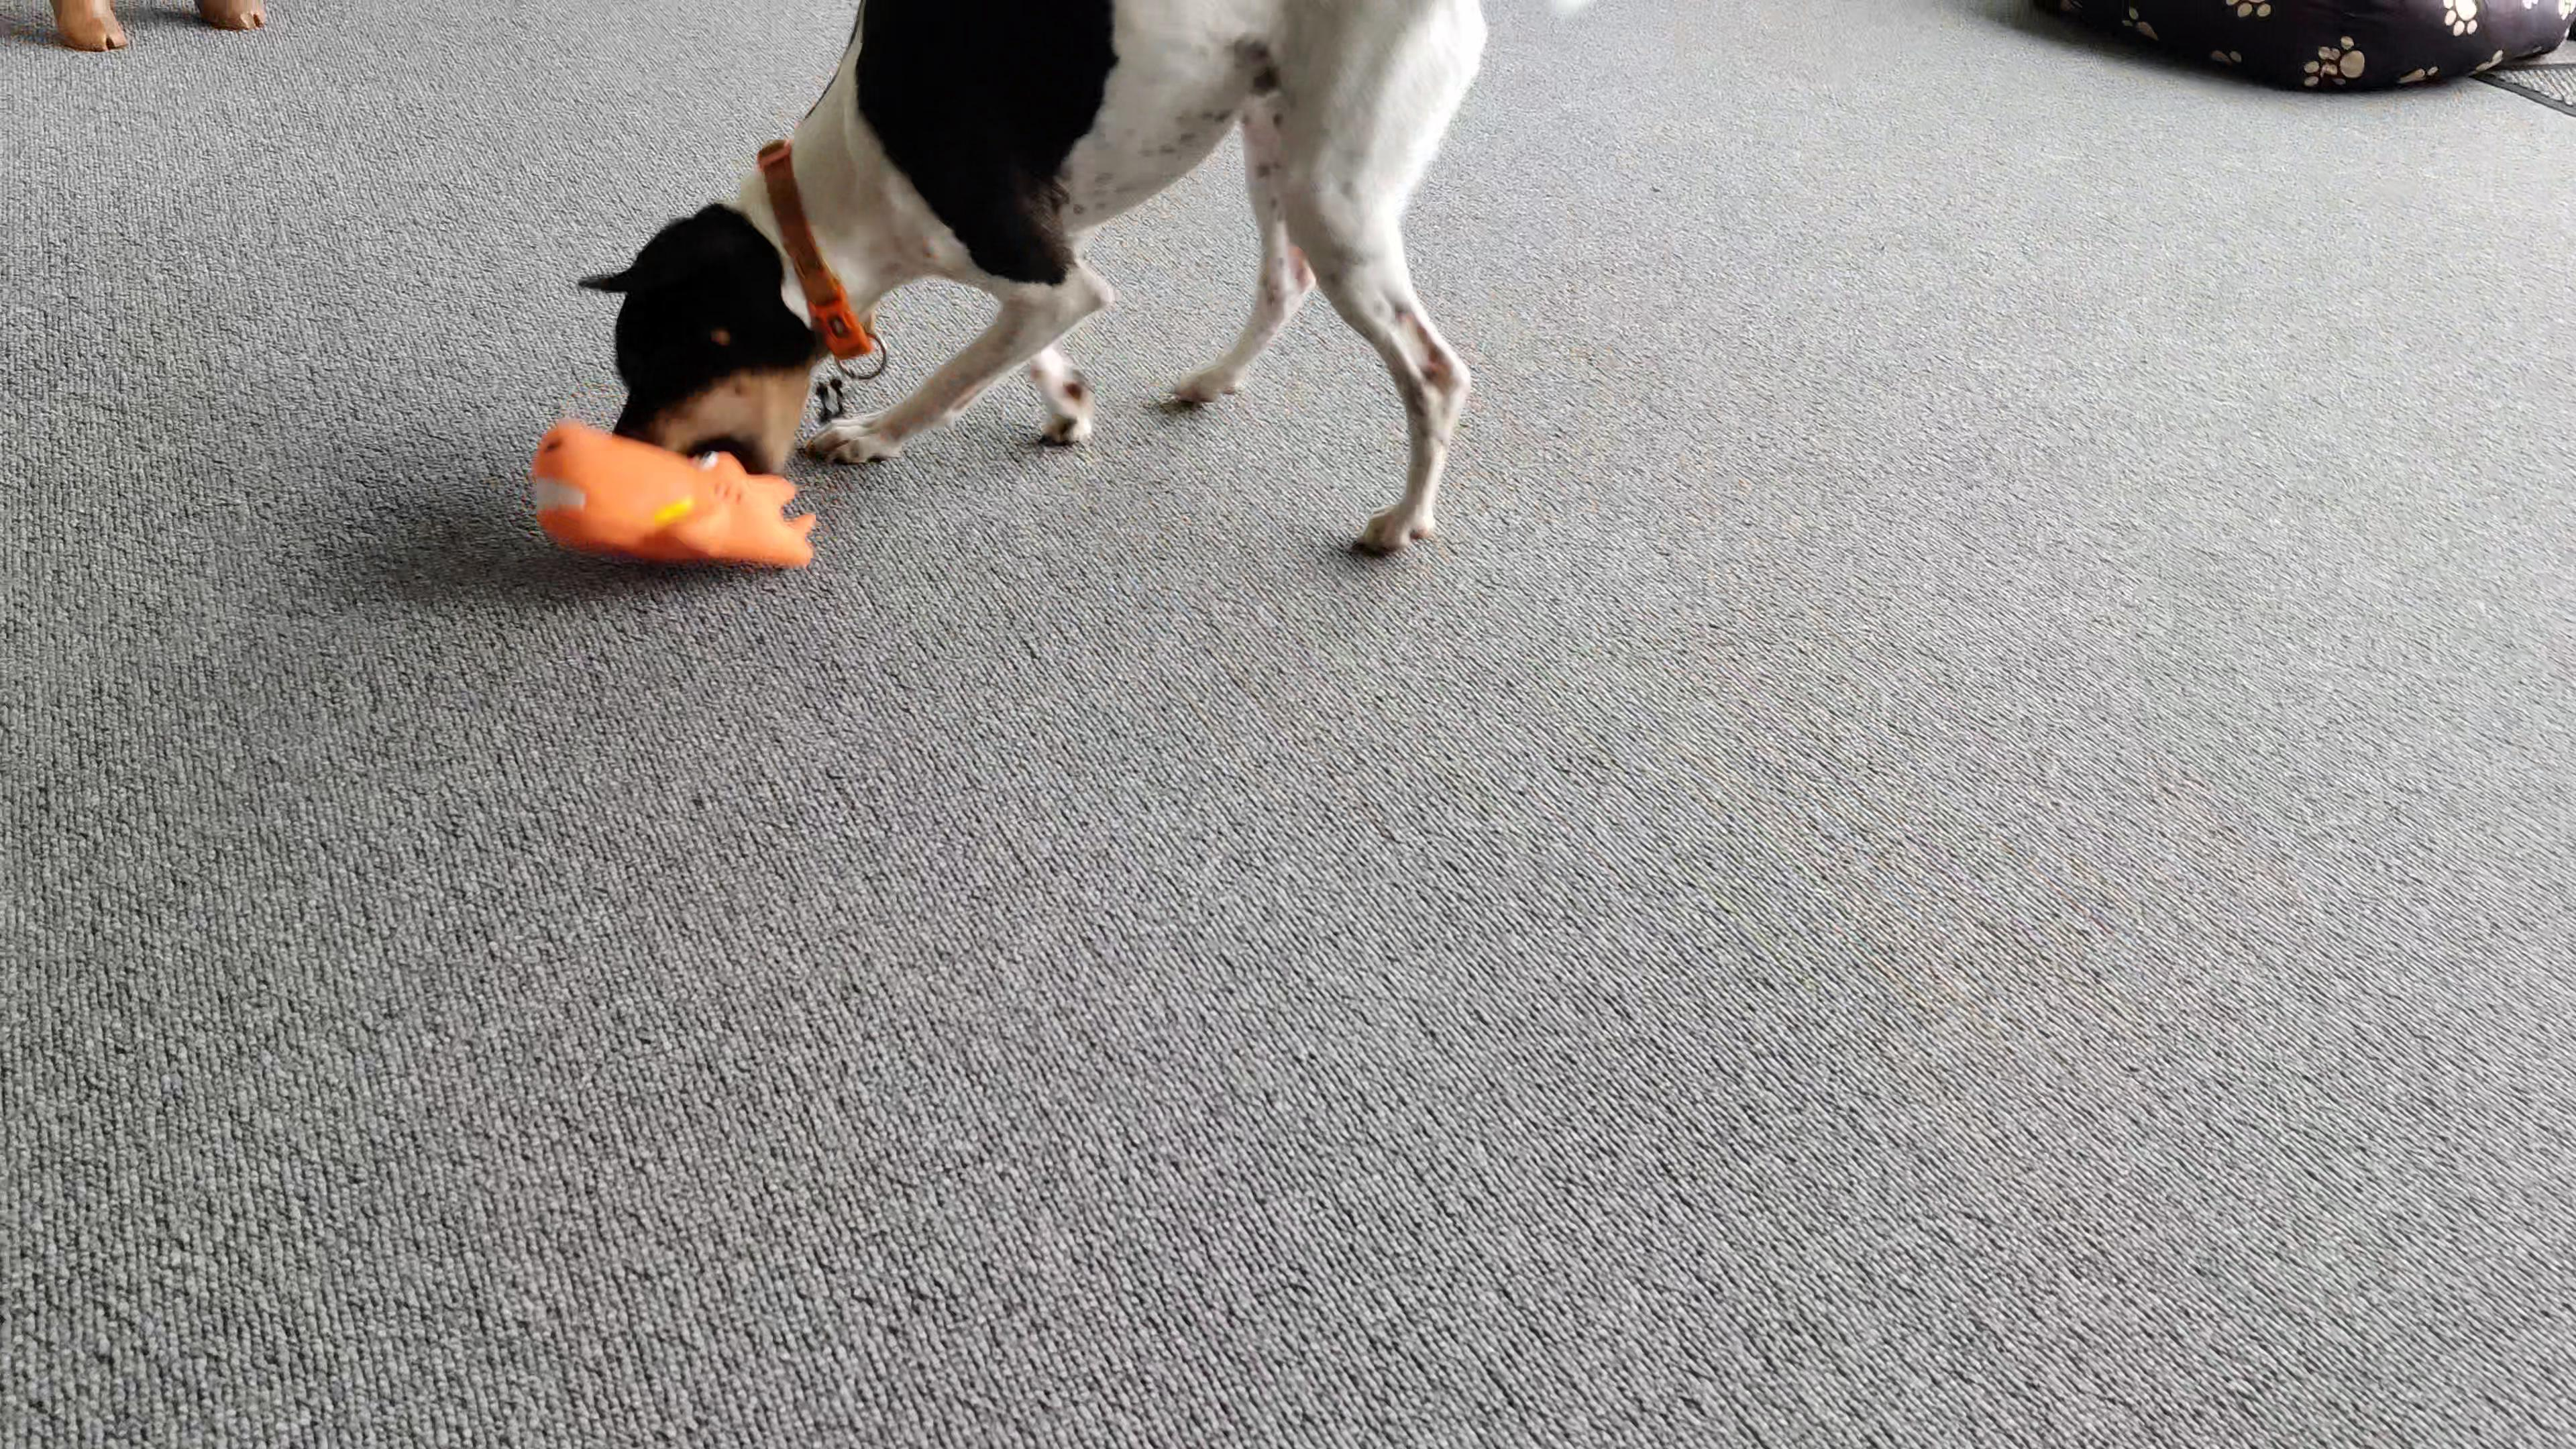Dog: (573, 0, 1610, 564)
